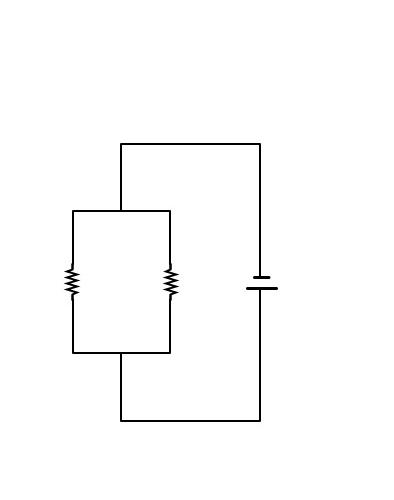resistor: (143, 247, 187, 309), (53, 257, 85, 309)
